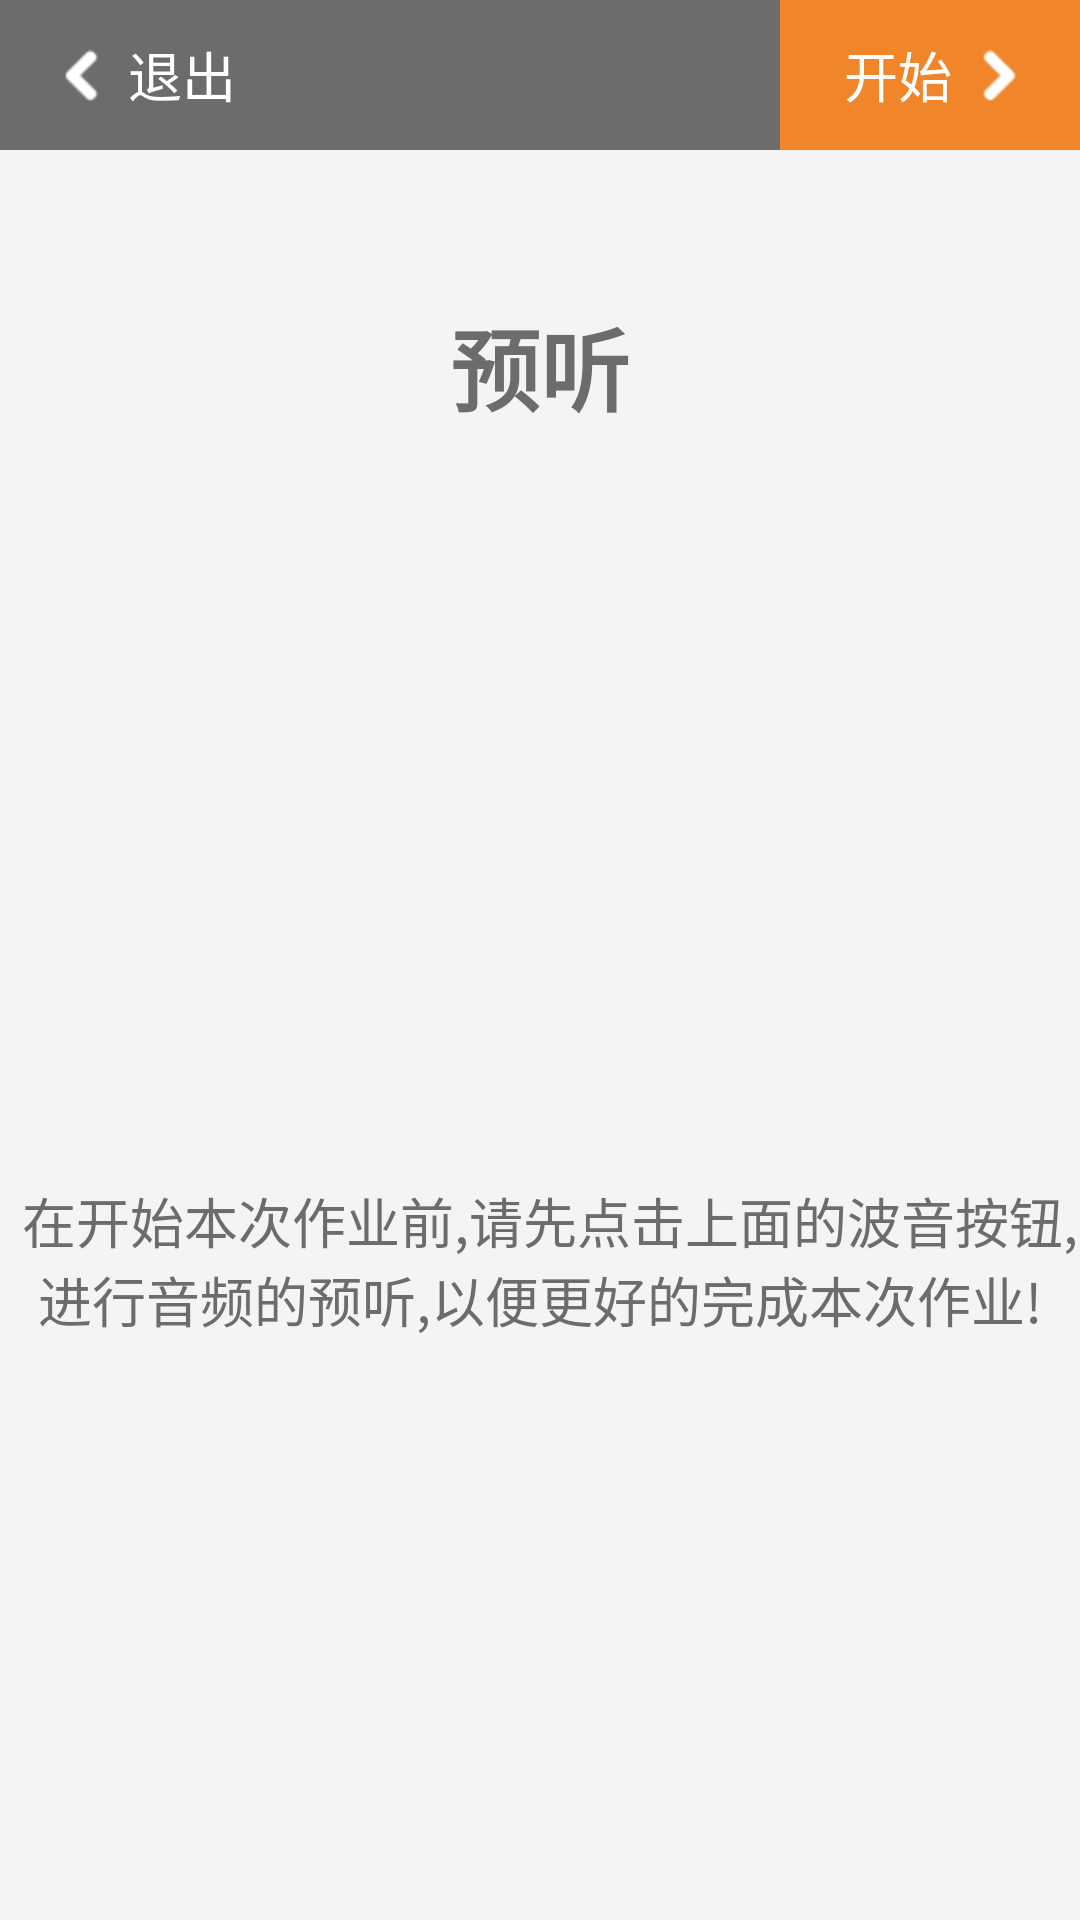

Icon bounding boxes for this 1080w x 1920h phone screenshot, format (x1, y1, x2, y2):
left: (65, 50, 98, 101)
right: (983, 50, 1016, 101)
